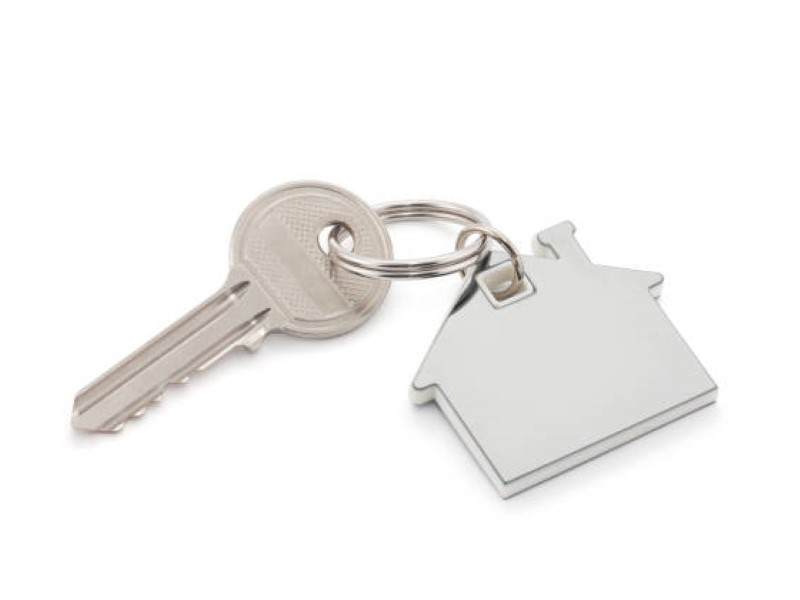key: (68, 177, 395, 442)
